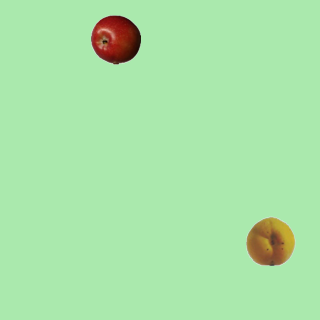Apple Braeburn: (90, 14, 140, 64)
Peach 2: (245, 215, 295, 265)
